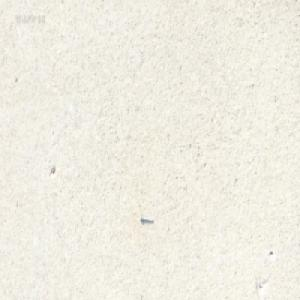Nail: (139, 214, 154, 223)
